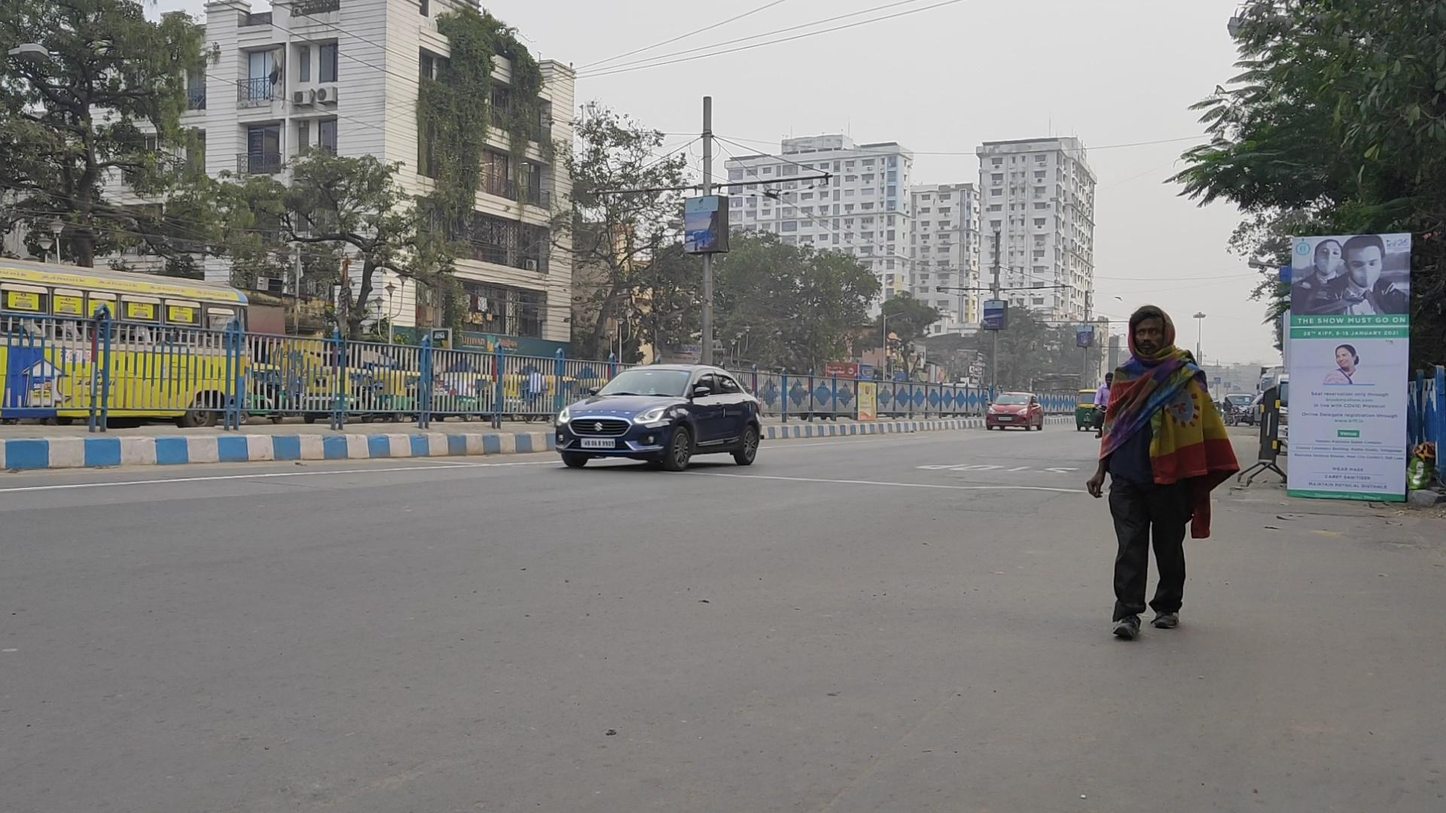Auto: (1075, 388, 1103, 433)
car: (554, 363, 765, 472), (987, 391, 1044, 433), (1227, 391, 1255, 427)
